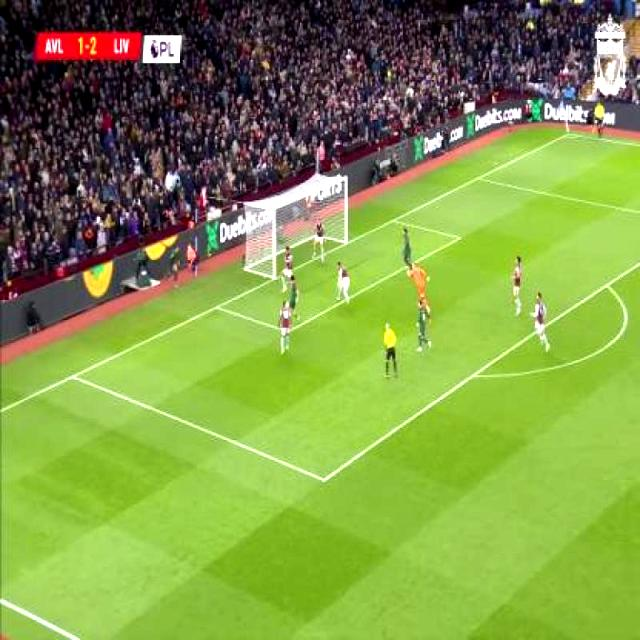bigarea_bottom_inner: (316, 462, 334, 498)
bigarea_bottom_outter: (66, 366, 84, 386)
bigarea_top_outter: (474, 170, 483, 188)
bottom_arc_area_intersection: (468, 364, 482, 390)
corner: (566, 134, 579, 138)
smallarea_bottom_outter: (211, 297, 226, 318)
smallarea_top_inner: (454, 226, 468, 248)
smallarea_top_outter: (388, 211, 400, 231)
top_arc_area_intersection: (600, 272, 617, 298)
